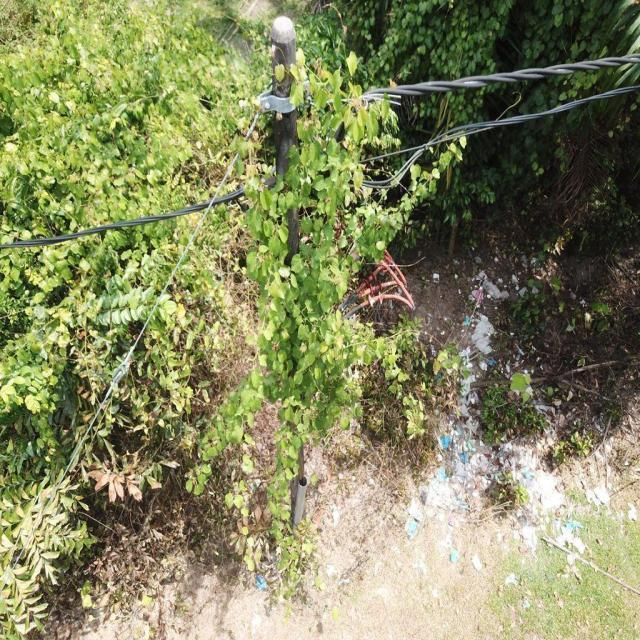critical vegetation: (185, 46, 403, 522)
